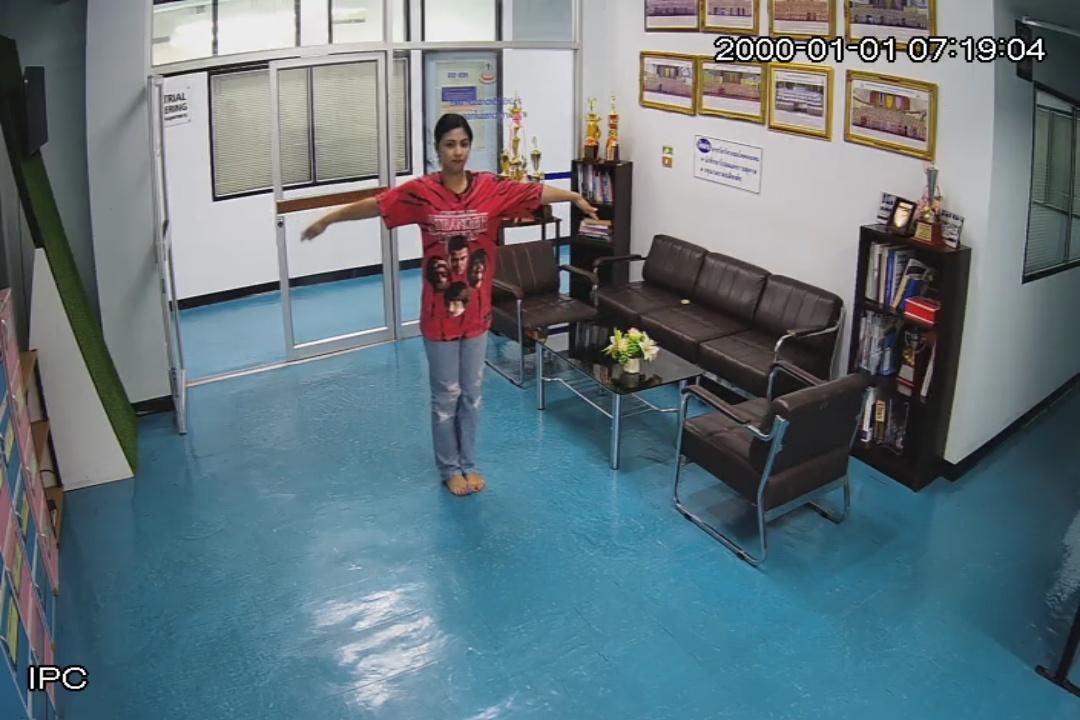normal: (301, 102, 598, 498)
